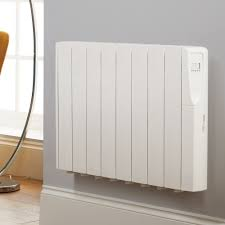Radiator: (55, 40, 209, 195)
